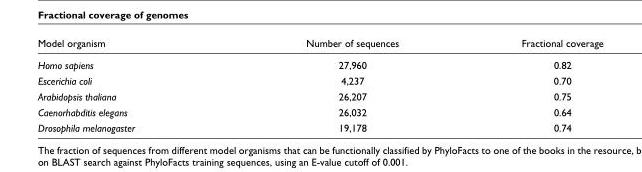table: (36, 36, 602, 133)
table column: (219, 36, 459, 133), (36, 36, 219, 133), (459, 36, 602, 133)
table column header: (36, 36, 602, 53)
table row: (36, 53, 602, 72), (36, 36, 602, 53), (36, 72, 602, 88), (36, 103, 602, 119), (36, 88, 602, 103), (36, 119, 602, 133)
